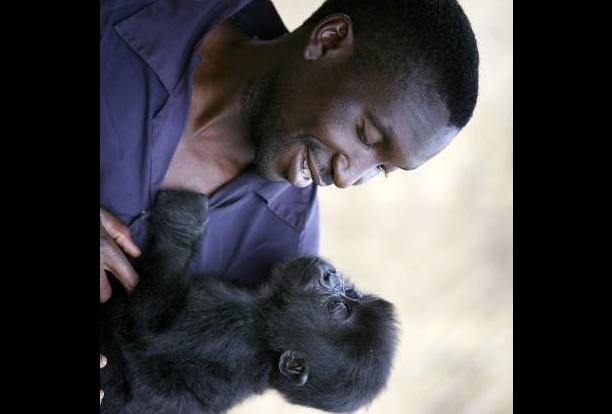gorille_Autres: (103, 229, 404, 414)
